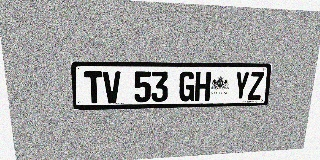3: (151, 71, 168, 102)
5: (134, 71, 151, 102)
G: (179, 71, 195, 101)
H: (194, 71, 211, 101)
T: (84, 71, 103, 103)
V: (103, 71, 121, 103)
Y: (233, 72, 250, 100)
Z: (248, 72, 264, 100)
